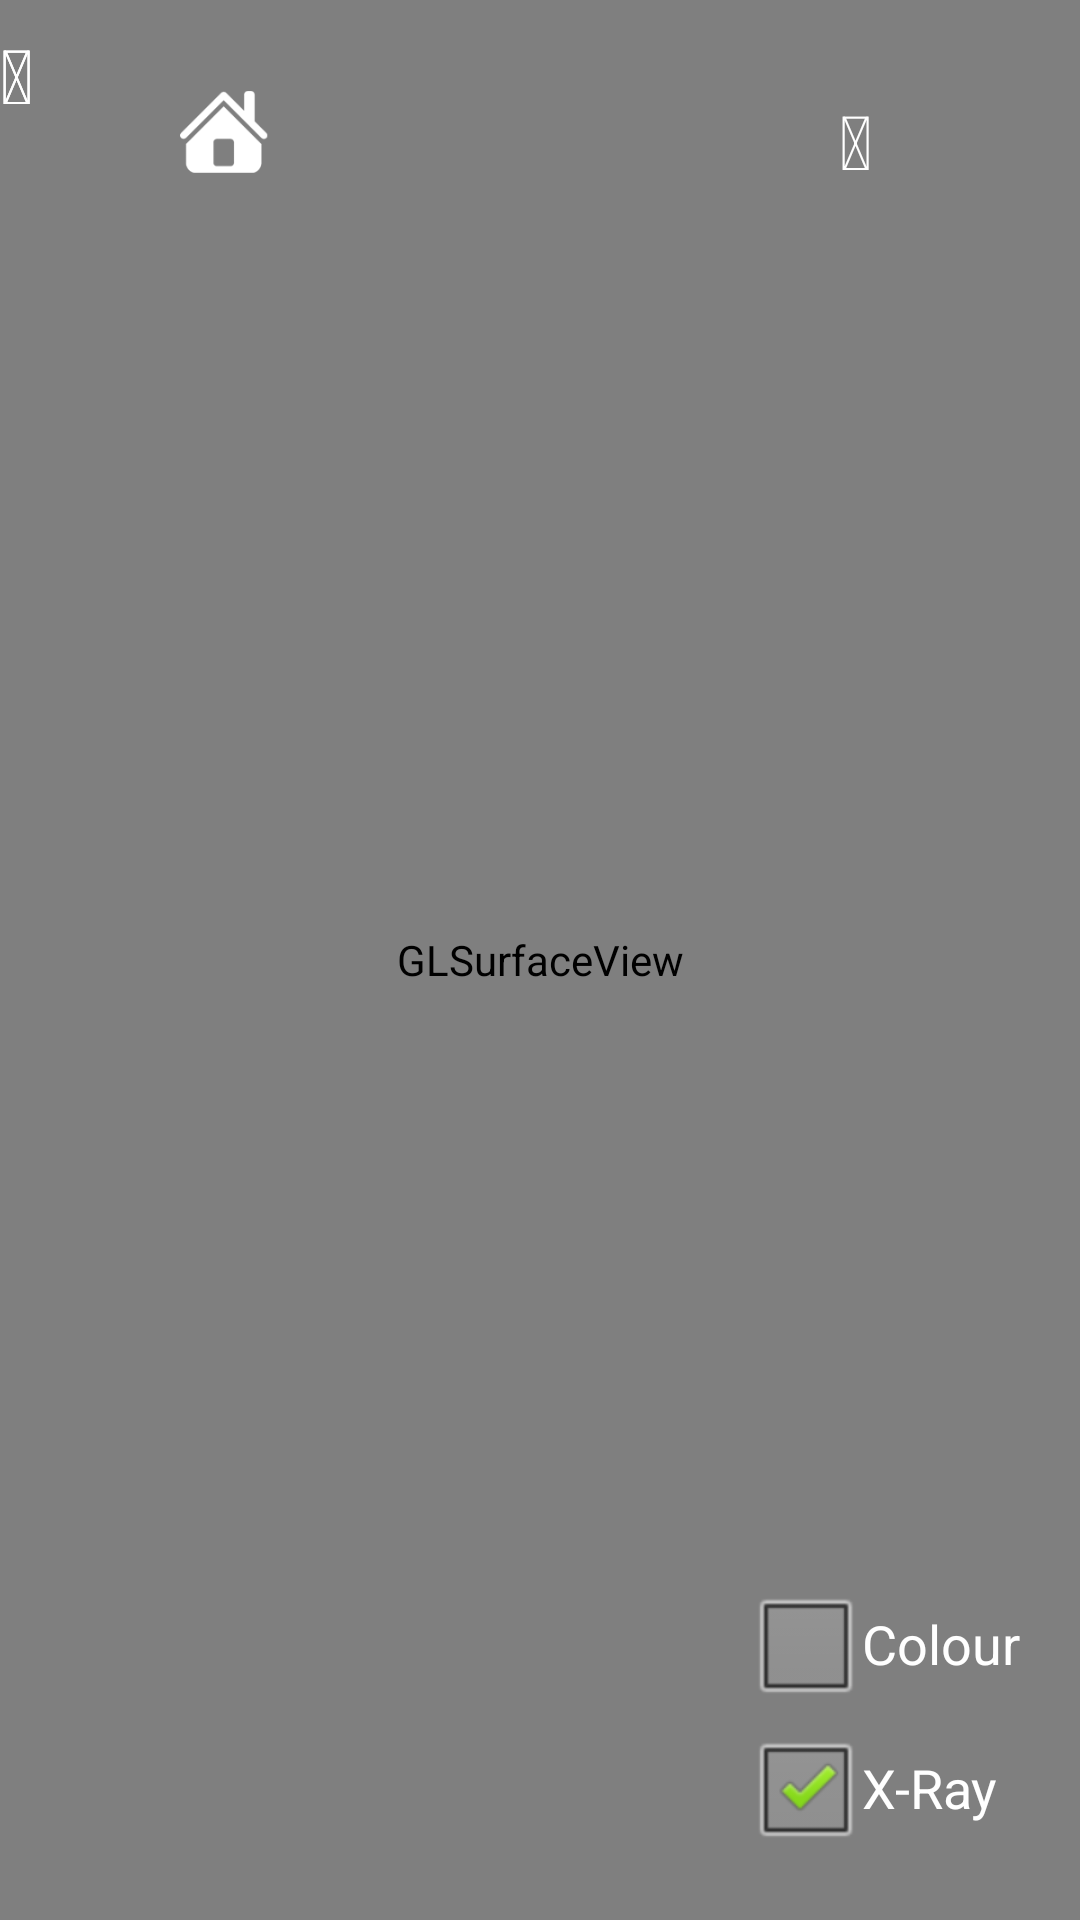

Named icons in this screenshot (1080x1920) and their centers, point (x, y):
houseicon: point (224, 132)
